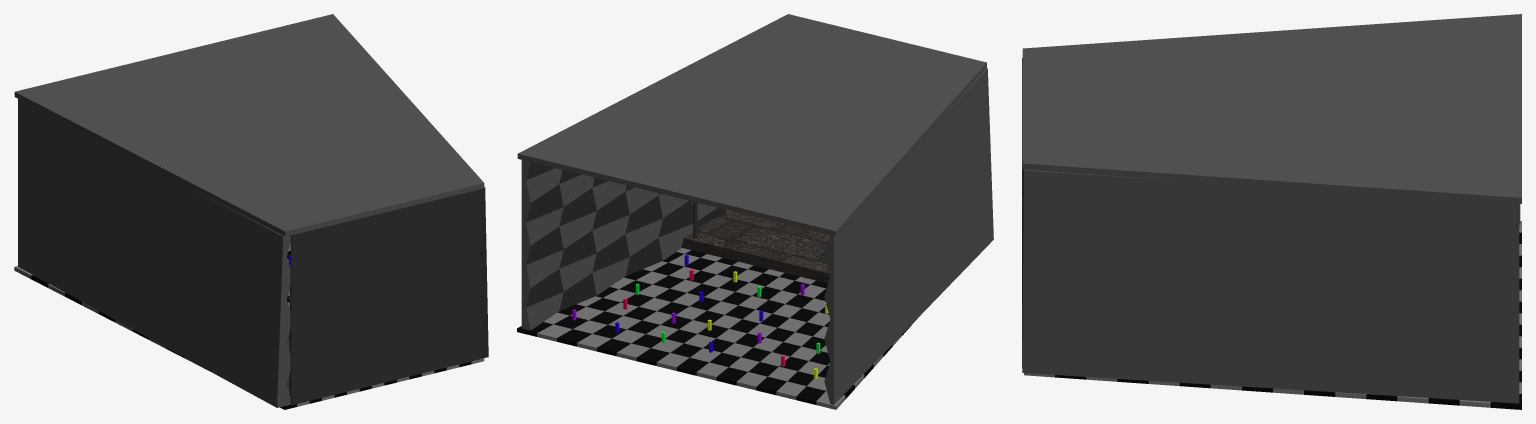
File: Live.fbx
3 renders of one model, left to right at view 1: azimuth 30°, elevation 25°; view 2: azimuth 150°, elevation 25°; view 3: azimuth 270°, elevation 25°, orthographic. The views are drawn at different scales.
Parts seen in each view (by area): view 1: 天井, 右側の壁, 正面の壁, 地面, 左側の壁; view 2: 天井, 右側の壁, 地面, 左側の壁, ステージ; view 3: 左側の壁, 天井, 地面.
Boxes of the visible parts, bbox=[...] form: 天井: bbox=[14, 14, 484, 236]; 右側の壁: bbox=[18, 99, 290, 407]; 正面の壁: bbox=[290, 189, 480, 405]; 地面: bbox=[14, 243, 484, 409]; 左側の壁: bbox=[480, 187, 488, 358]; 天井: bbox=[517, 14, 986, 236]; 右側の壁: bbox=[824, 68, 993, 404]; 地面: bbox=[517, 248, 916, 409]; 左側の壁: bbox=[521, 160, 732, 330]; ステージ: bbox=[681, 211, 830, 283]; 左側の壁: bbox=[1022, 169, 1519, 403]; 天井: bbox=[1022, 14, 1521, 203]; 地面: bbox=[1024, 221, 1521, 409].
Size of the model in its own units: 2362 by 1263 by 2704.
